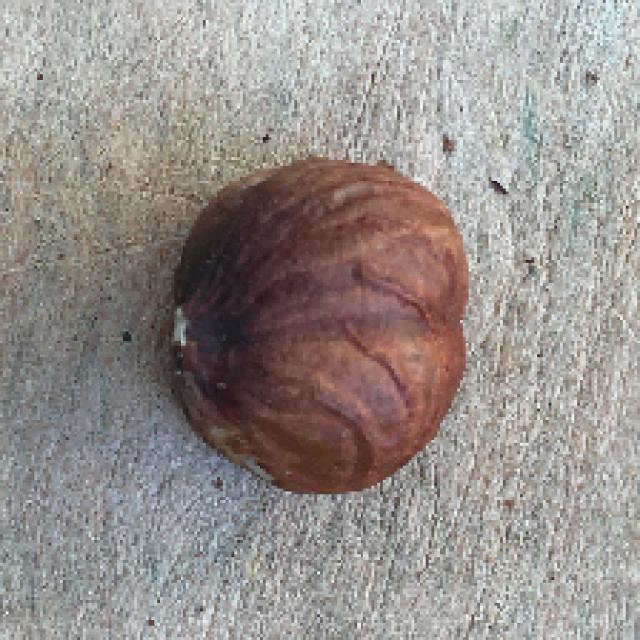hazelnut: (163, 156, 476, 494)
